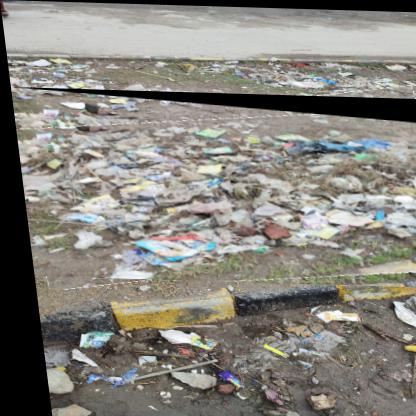Garbage: (9, 88, 416, 288)
